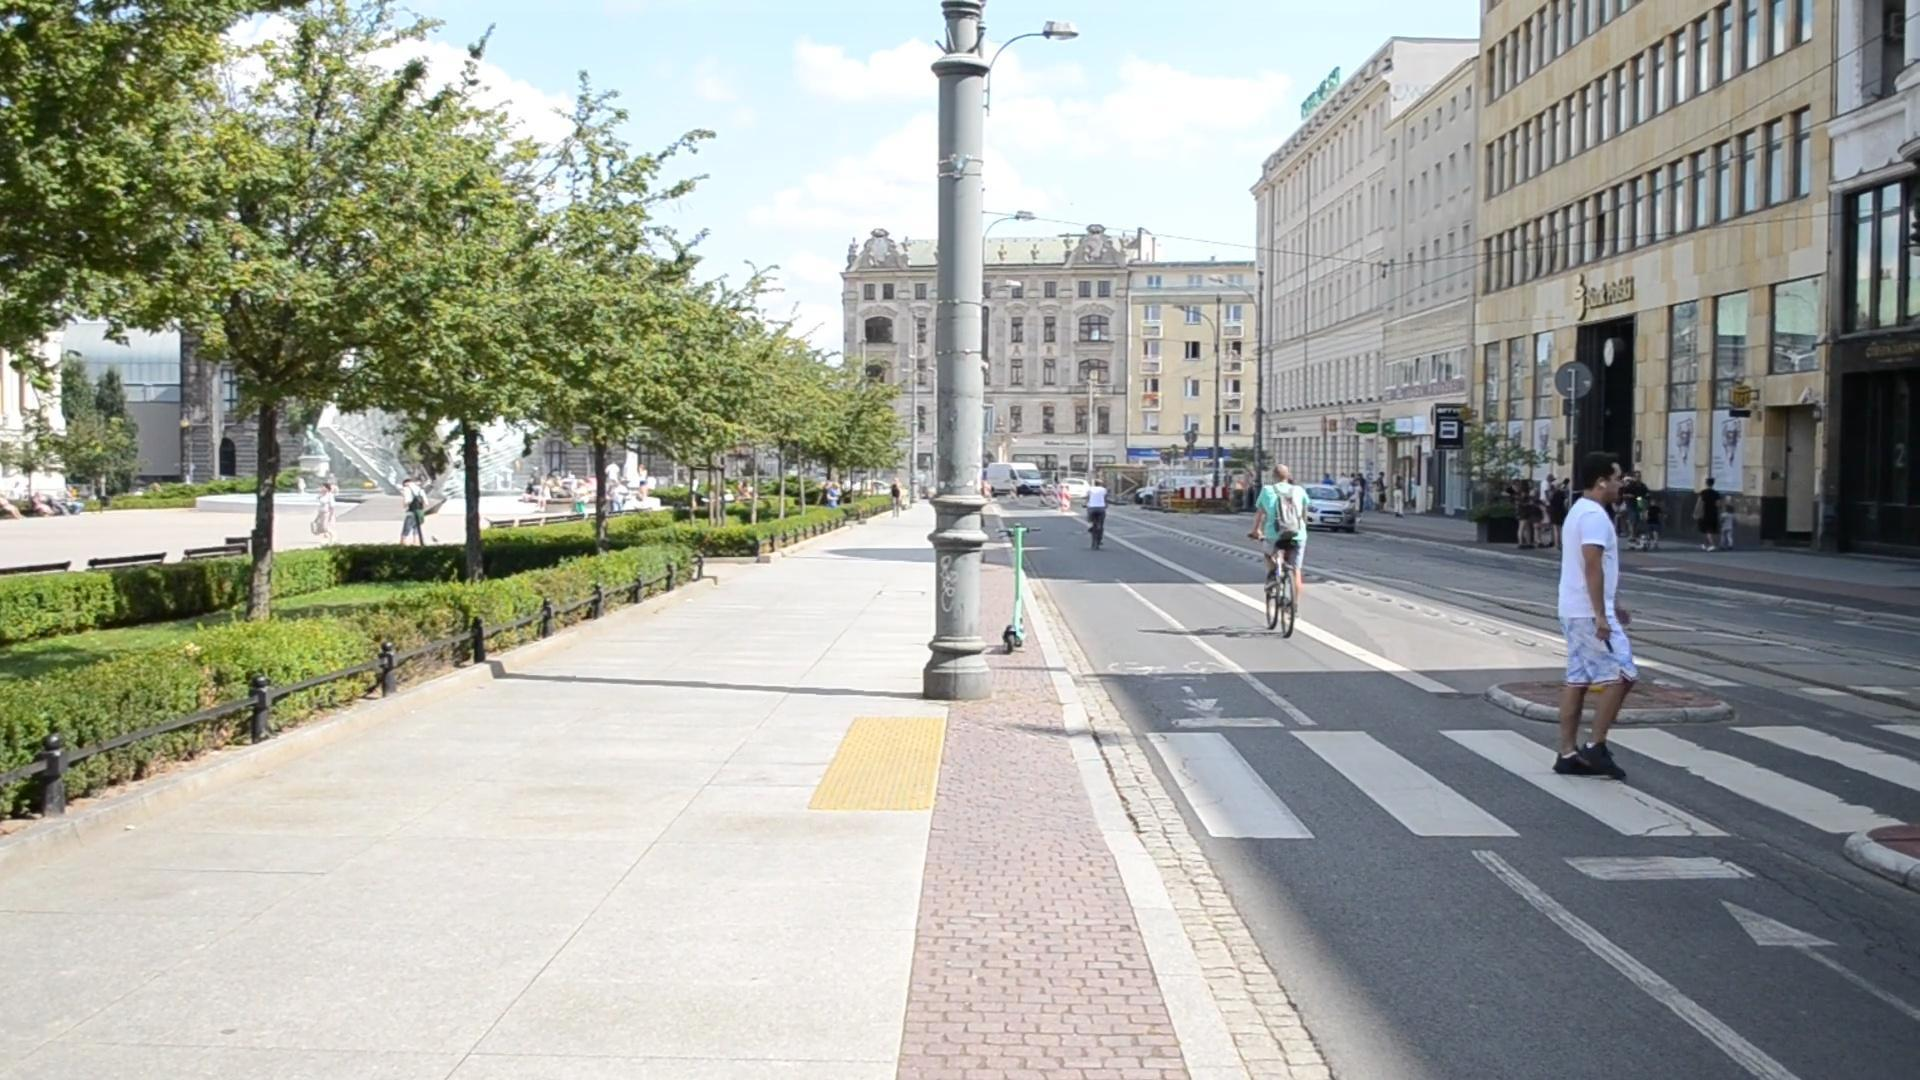cyclist: (1245, 442, 1340, 671), (1061, 474, 1125, 552)
